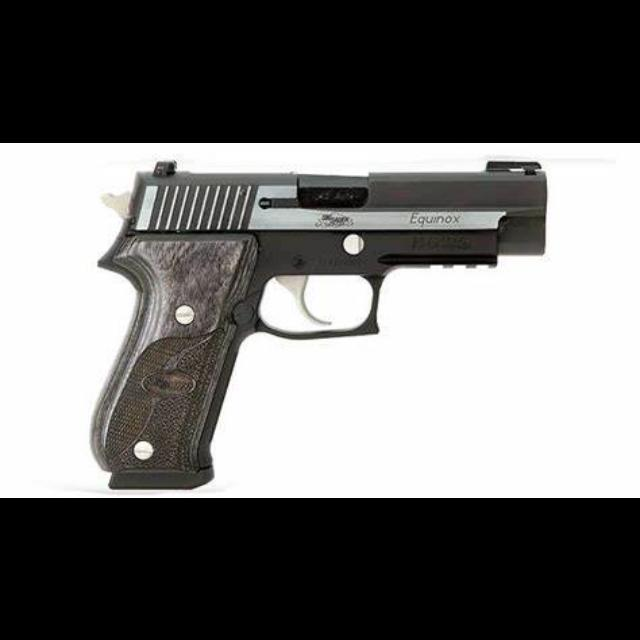handgun: (83, 154, 551, 494)
